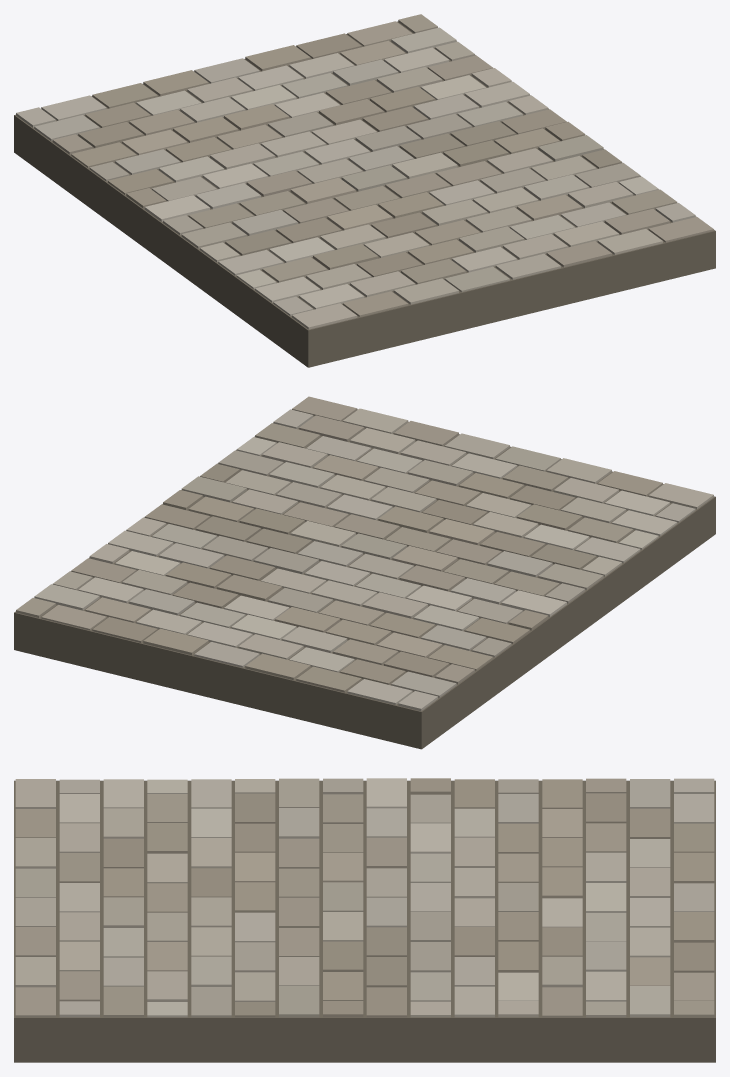
Rendered from road_tile.fbx.
3 renders of one model, top to bottom at view 1: azimuth 30°, elevation 25°; view 2: azimuth 150°, elevation 25°; view 3: azimuth 270°, elevation 25°, orthographic. The views are drawn at different scales.
Parts seen in each view (by area): view 1: road_tile_Main; view 2: road_tile_Main; view 3: road_tile_Main.
Part boxes in pixels (<box>): road_tile_Main: <box>14,14,715,367</box>; road_tile_Main: <box>14,396,715,749</box>; road_tile_Main: <box>14,778,715,1062</box>.
Bounding box in the file's own units: 8 × 0.75 × 10.
